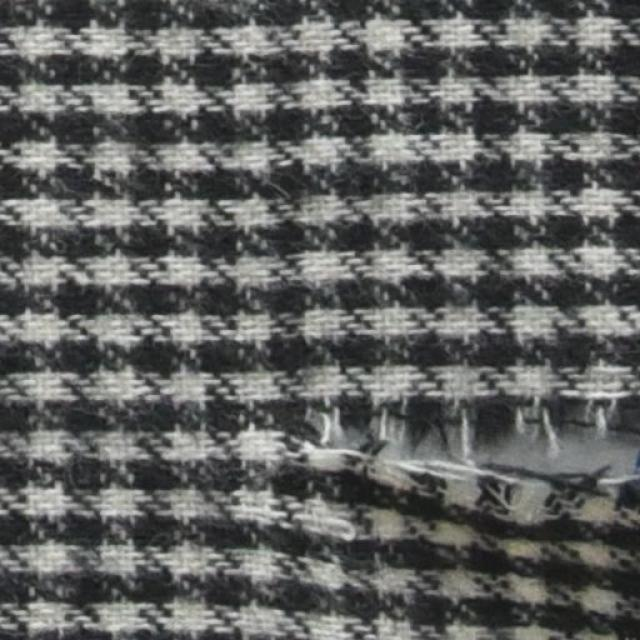Hole: (337, 417, 639, 468)
Snag: (308, 427, 629, 524)
